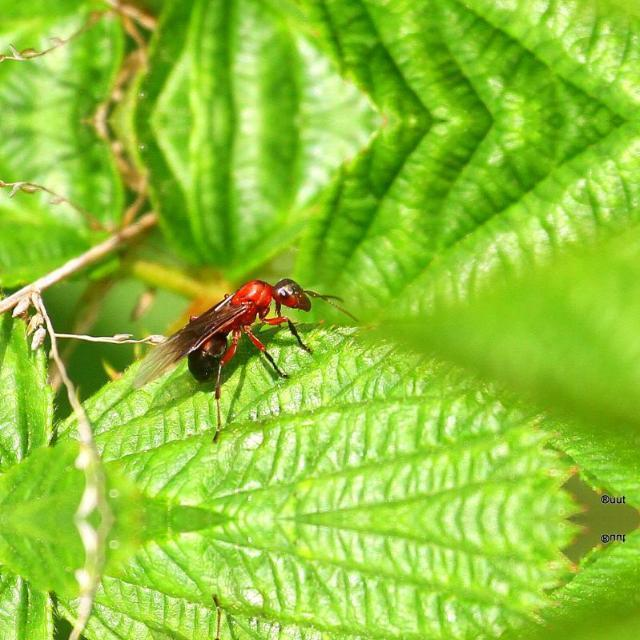Formica: (114, 247, 350, 446), (114, 590, 348, 640)
